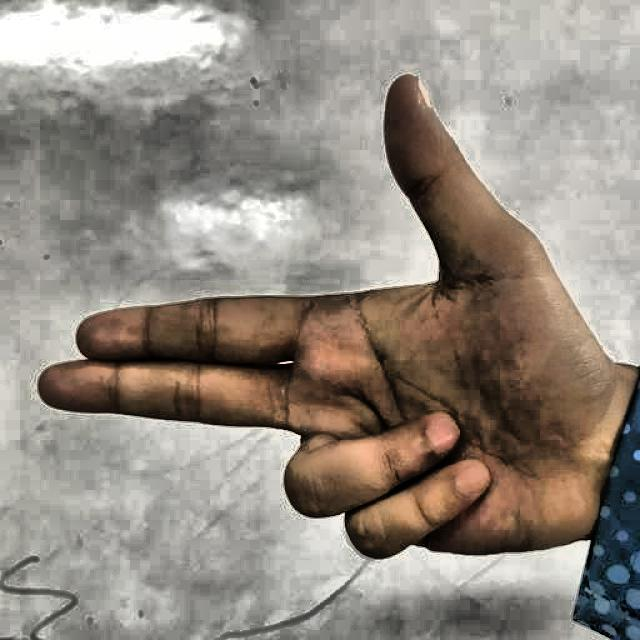Jha: (32, 57, 607, 611)
